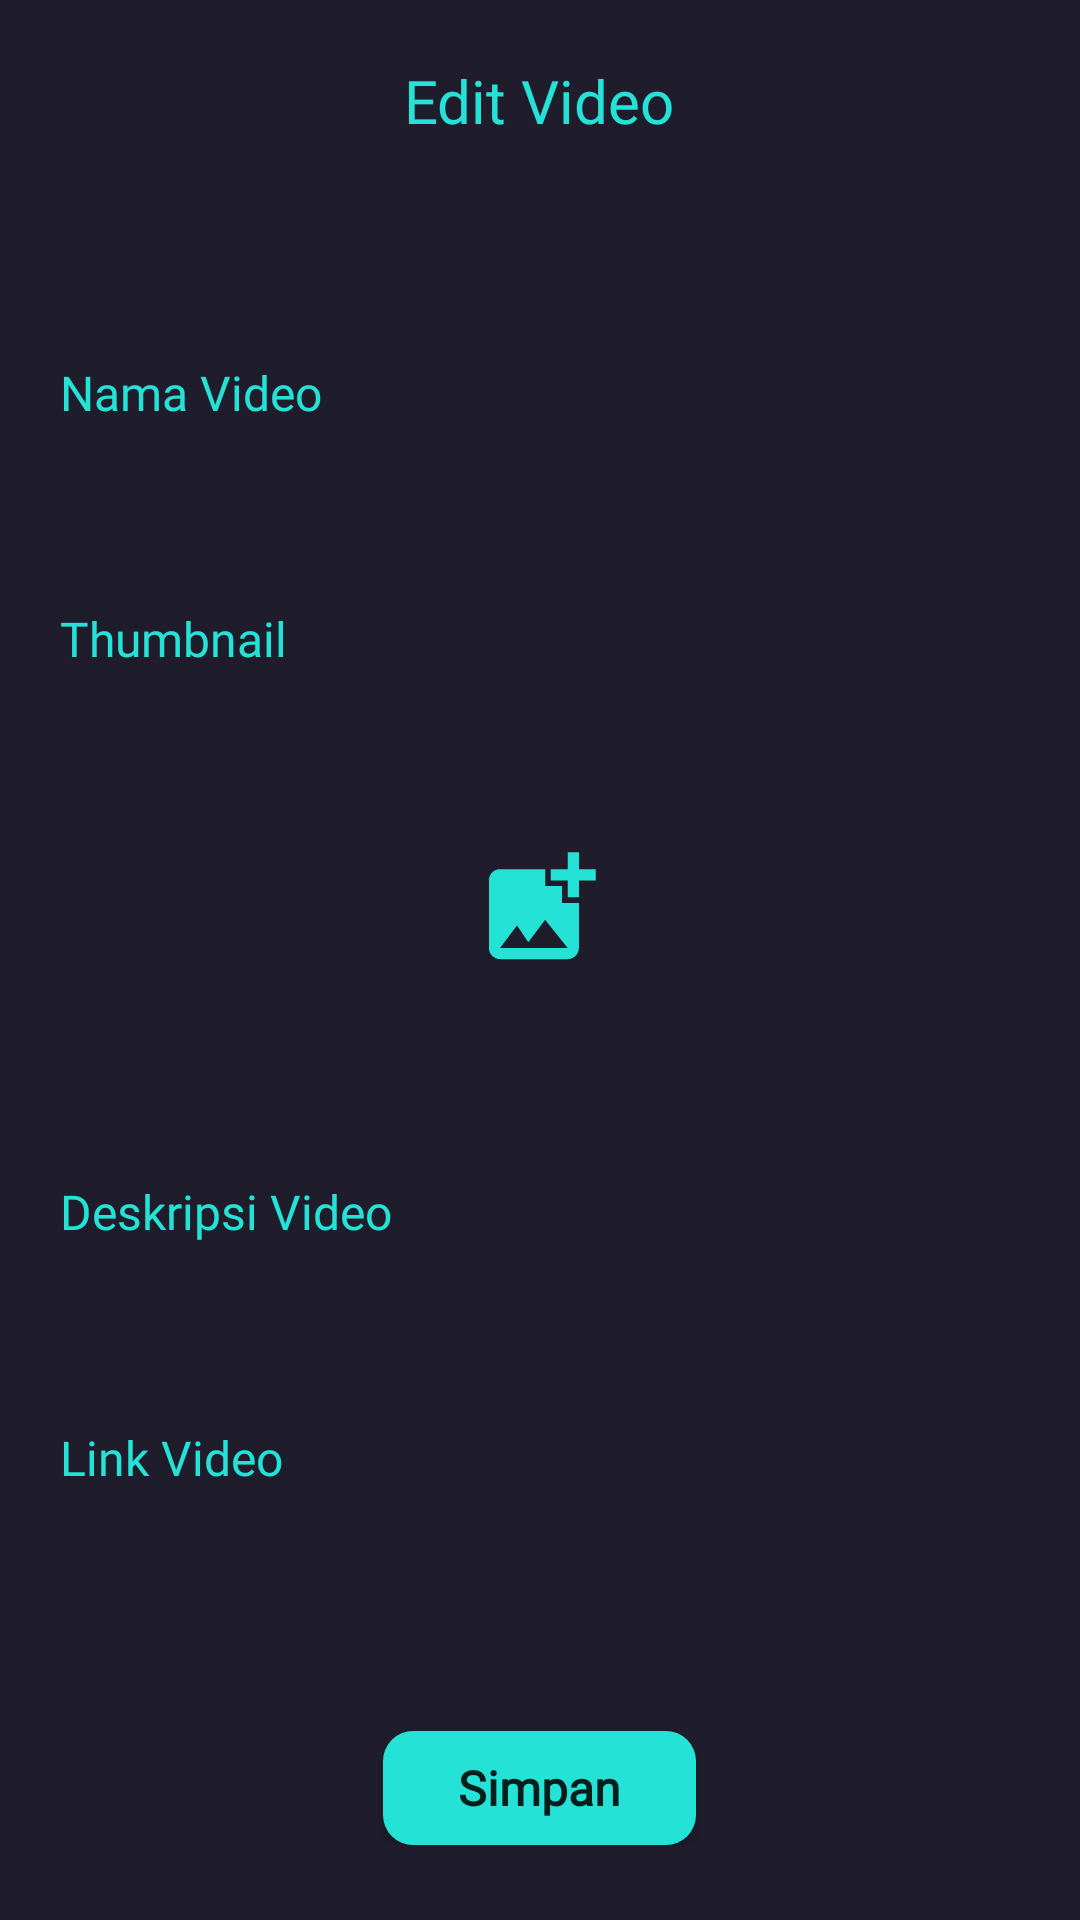

Icon click points for this 1080×1920 phone screenshot, format (x,y):
add photo alternate: (542,906)
